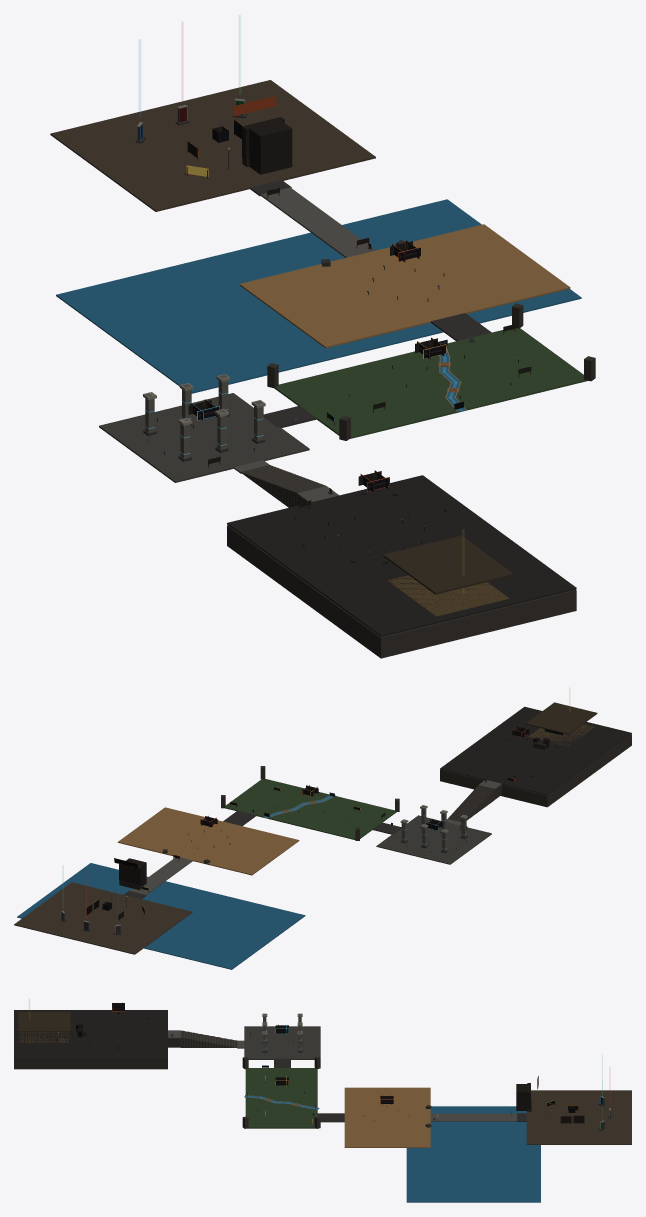
The model's file is emberhold_static_blocks_b_v63.glb.
3 views of the same model, one above another, from view 1: azimuth 30°, elevation 25°; view 2: azimuth 150°, elevation 25°; view 3: azimuth 270°, elevation 25° (orthographic). The views are drawn at different scales.
Parts seen in each view (by area): view 1: emberhold_static_blocks; view 2: emberhold_static_blocks; view 3: emberhold_static_blocks.
Boxes of the visible parts, box(x1,y1,x2,y2) form: emberhold_static_blocks: box(50, 15, 595, 658); emberhold_static_blocks: box(14, 687, 631, 969); emberhold_static_blocks: box(14, 999, 631, 1202).
Bounding box in the file's own units: 485 × 138 × 875.
